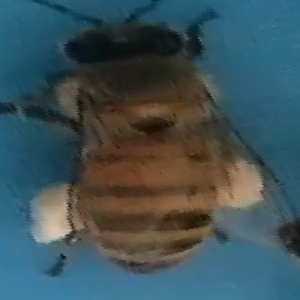bee: (8, 2, 277, 275)
